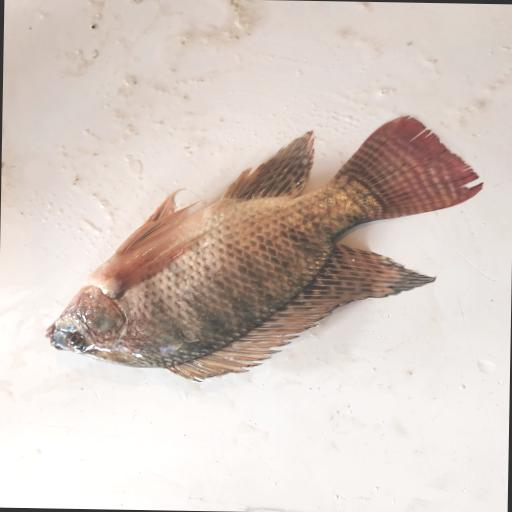Tilapia: (43, 109, 485, 389)
